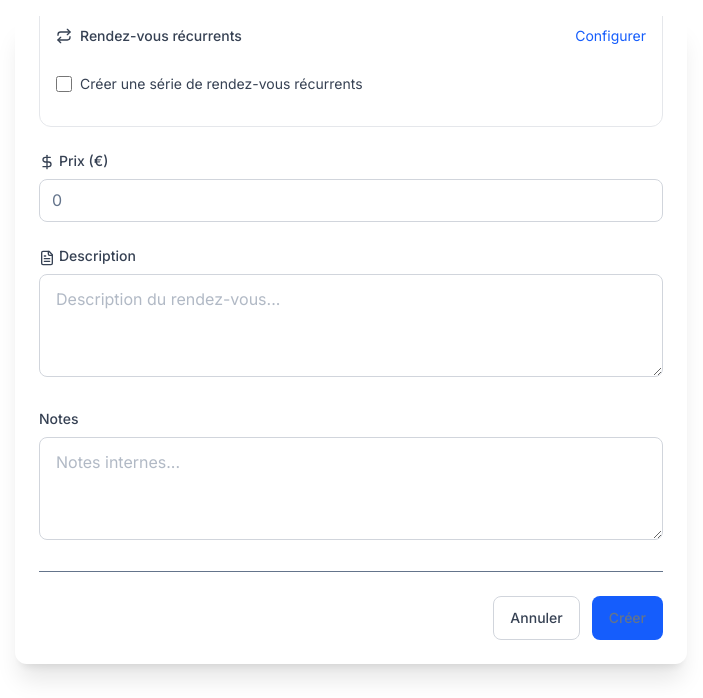
AppointmentForm › should validate required fields
(page scrolled)
Click the button "Créer" at point(627, 618), box x1=592 y1=596 x2=663 y2=640
(page scrolled)
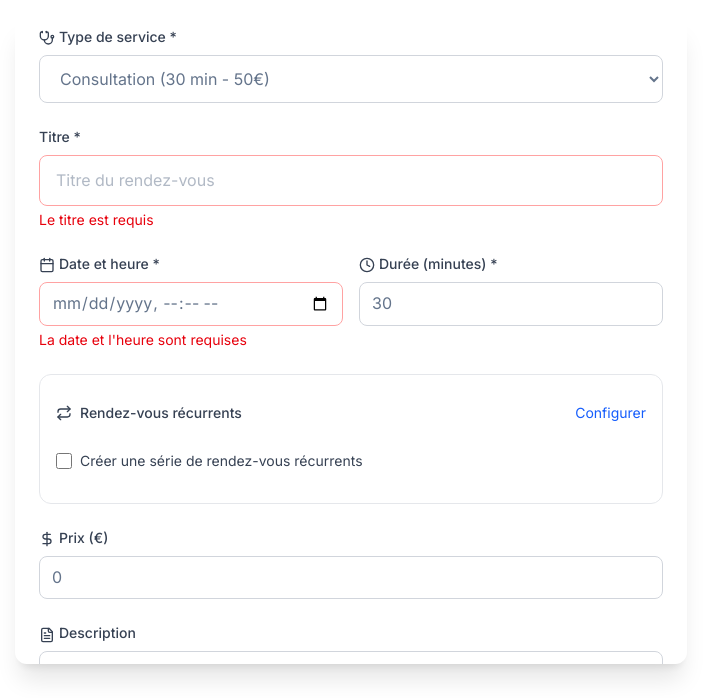
expect the text "Le titre est requis" is shown: met, box x1=39 y1=211 x2=154 y2=228
expect the text "La date et l'heure sont requises" is shown: met, box x1=39 y1=331 x2=247 y2=348
